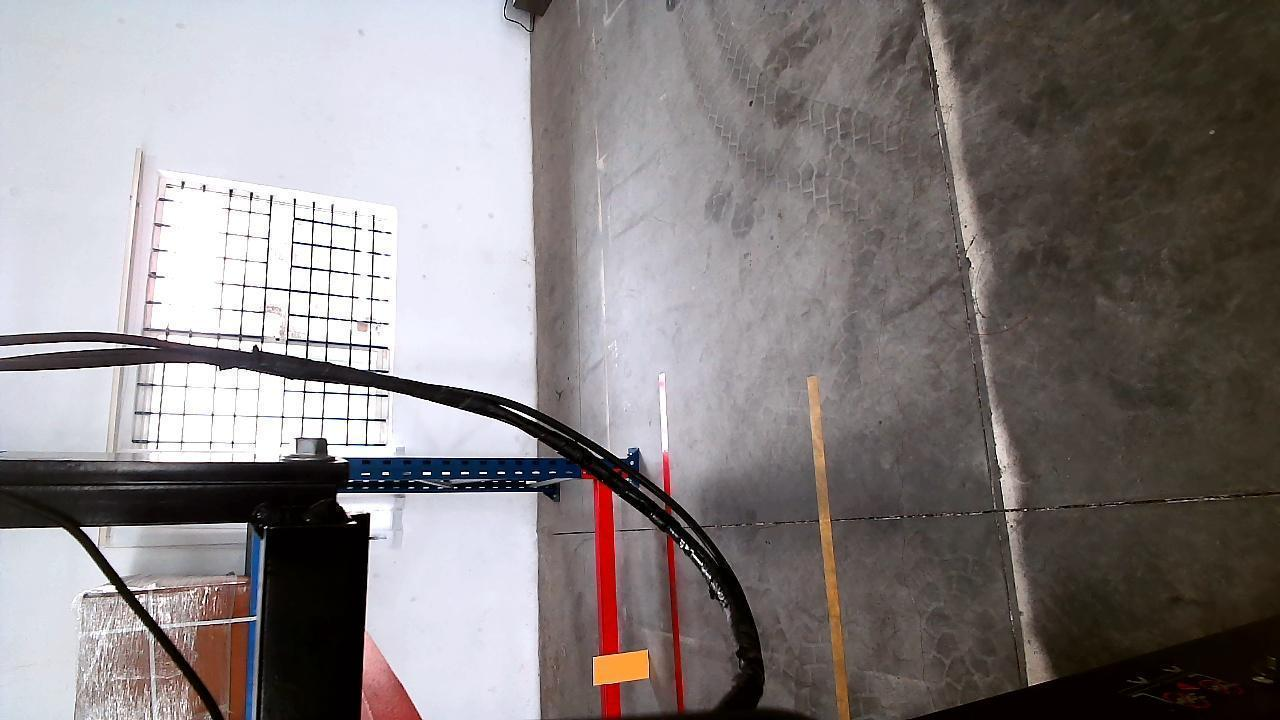red_line: (655, 448, 686, 709)
yellow_line: (805, 368, 852, 713)
